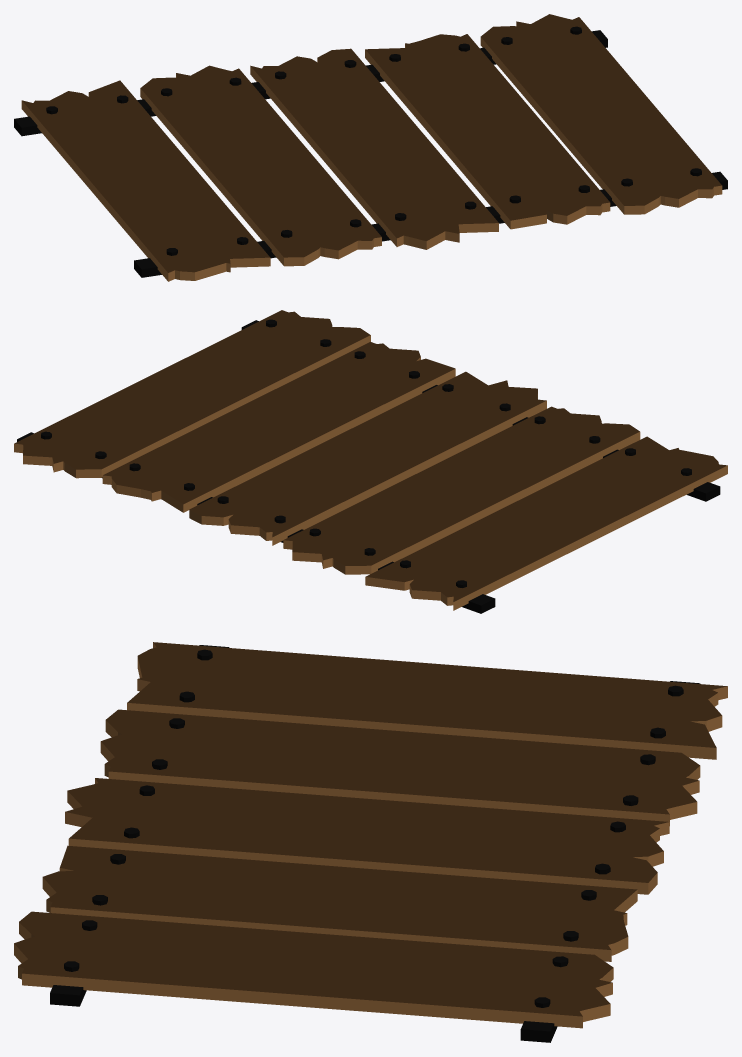
Rendered from ponticello.fbx.
The picture shows the model from 3 angles, top to bottom: view 1: azimuth 30°, elevation 25°; view 2: azimuth 150°, elevation 25°; view 3: azimuth 270°, elevation 25°; orthographic projection. The views are drawn at different scales.
Parts seen in each view (by area): view 1: ponticello; view 2: ponticello; view 3: ponticello.
Boxes of the visible parts, <box> form: ponticello: <box>14,14,727,281</box>; ponticello: <box>14,310,727,613</box>; ponticello: <box>14,642,727,1042</box>.
Size of the model in its own units: 506 by 15.06 by 395.
